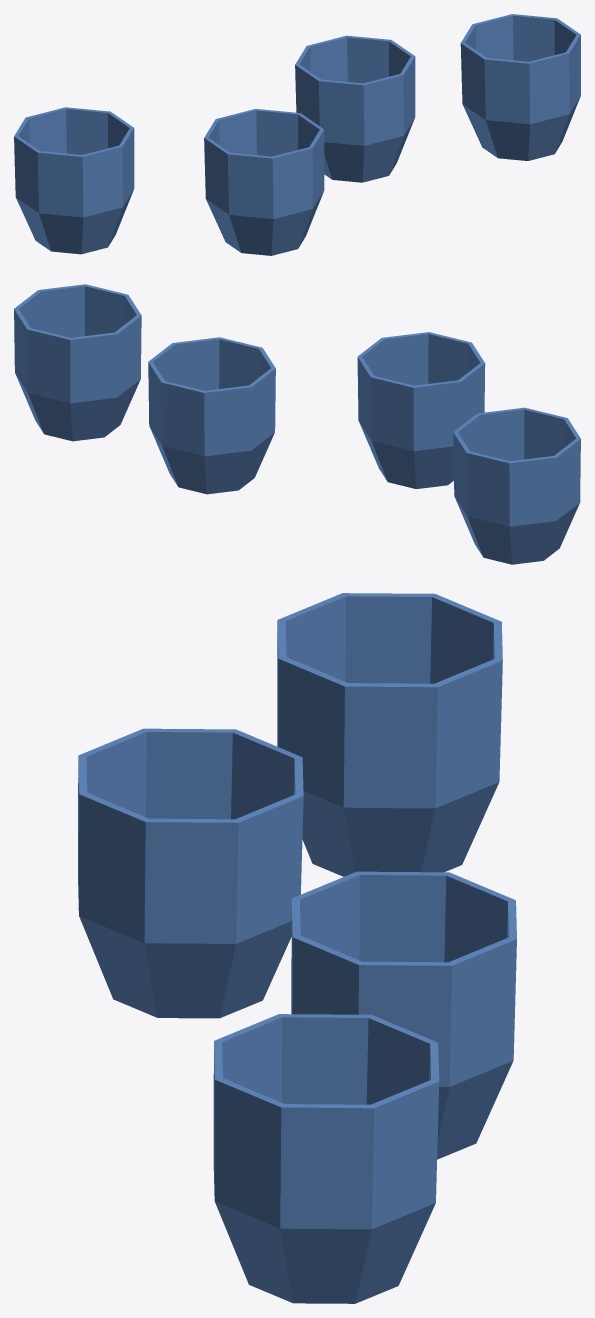
Rendered from Living_Room_glasses.fbx.
3 renders of one model, top to bottom at view 1: azimuth 30°, elevation 25°; view 2: azimuth 150°, elevation 25°; view 3: azimuth 270°, elevation 25°, orthographic. The views are drawn at different scales.
Parts seen in each view (by area): view 1: Living_Room_glasses; view 2: Living_Room_glasses; view 3: Living_Room_glasses.
Boxes of the visible parts, x1,y1,x2,y2 form: Living_Room_glasses: (14, 14, 580, 255); Living_Room_glasses: (14, 284, 580, 564); Living_Room_glasses: (78, 593, 516, 1303).
Bounding box in the file's own units: 49.48 × 17.8 × 9.69.
